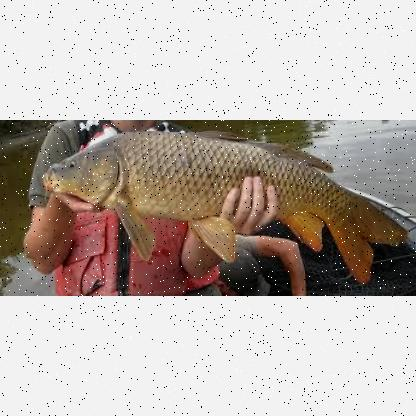ikan-mas: (47, 128, 381, 272)
